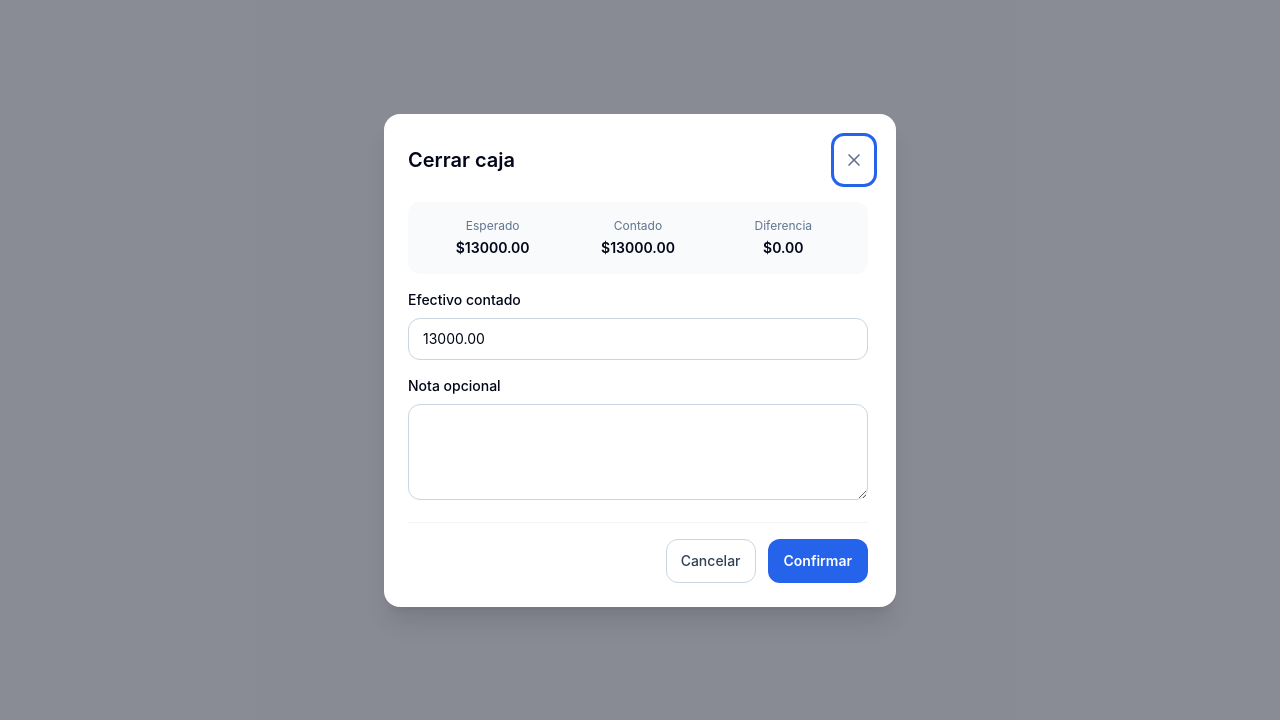
Test: Caja Fase 5 › cierre exige motivo si contado difiere del esperado
This screenshot has width=1280, height=720.
Expected: the button "Confirmar" is enabled, [768,538,868,582]
Replace the text in the field labelled "Efectivo contado" with "12500" at coordinates (638, 338), box [408,318,868,360]
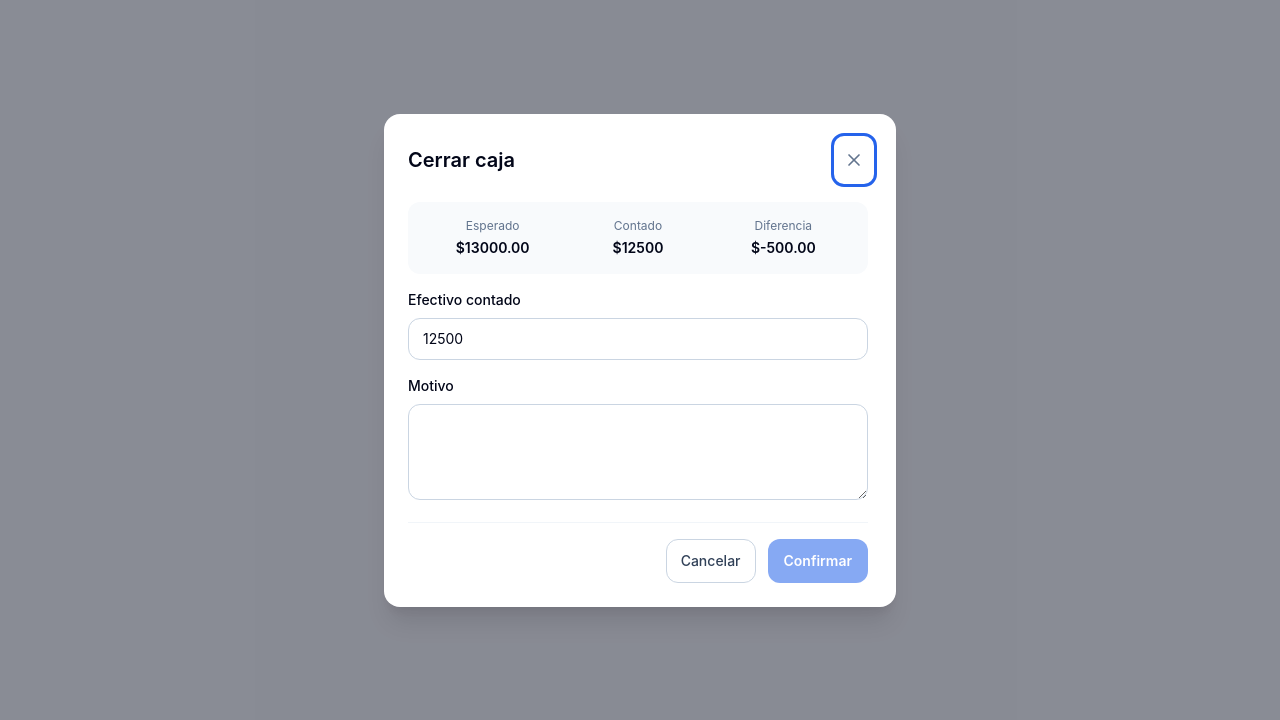
Now the text "$-500.00" is shown, box [751,238,816,256]
Now the button "Confirmar" is disabled, box [768,538,868,582]
Type "Faltante" into the text box labelled "Motivo" at coordinates (638, 452), box [408,404,868,500]
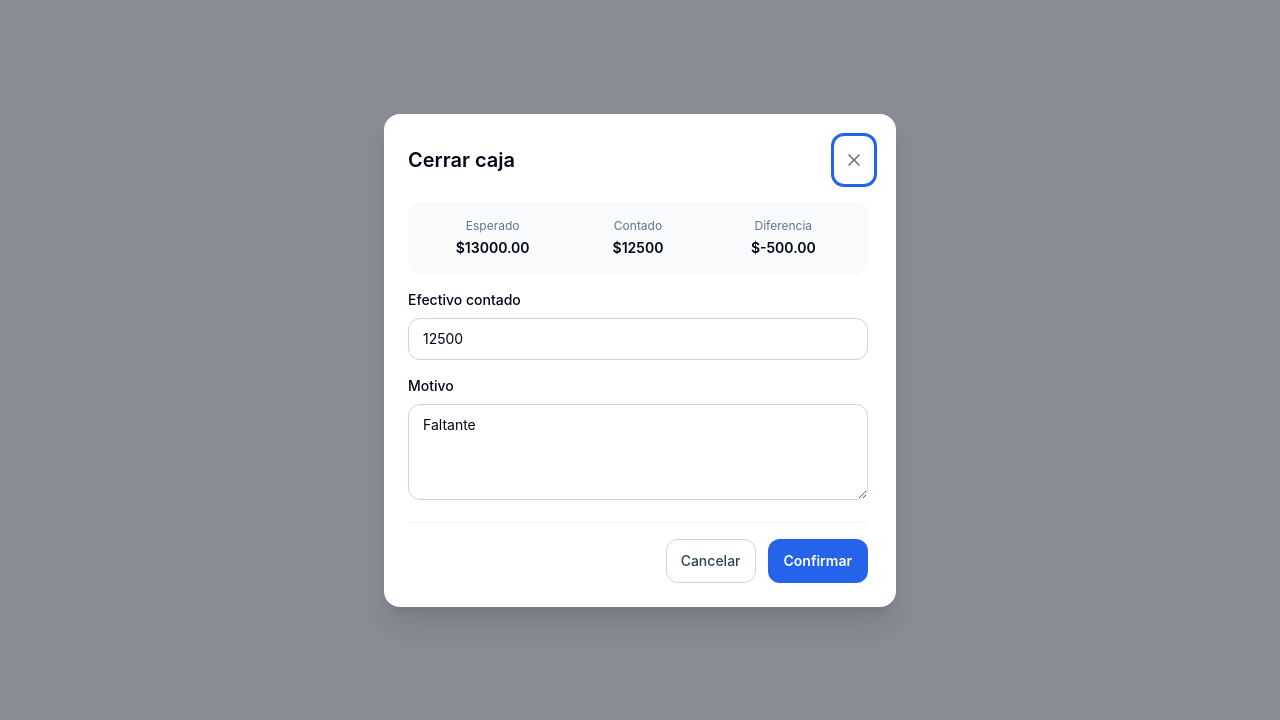
Now the button "Confirmar" is enabled, box [768,538,868,582]
